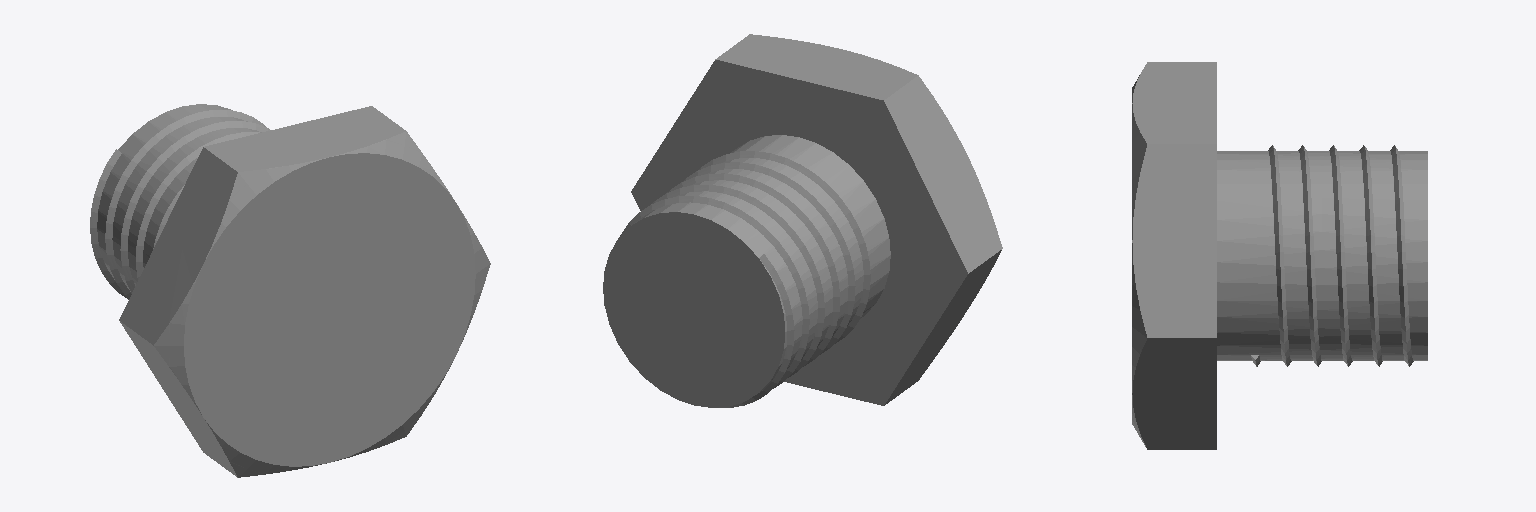
The model's file is pieza7.obj.
3 renders of one model, left to right at view 1: azimuth 30°, elevation 25°; view 2: azimuth 150°, elevation 25°; view 3: azimuth 270°, elevation 25°, orthographic.
Parts seen in each view (by area): view 1: Body1_Body1.006, Body2; view 2: Body1_Body1.006, Body2; view 3: Body1_Body1.006, Body2.
Part boxes in pixels (x1,y1,x2,y2): Body1_Body1.006: (97,104,490,477); Body2: (90,110,269,299); Body1_Body1.006: (603,34,1002,407); Body2: (620,151,870,407); Body1_Body1.006: (1132,62,1427,449); Body2: (1251,145,1413,366).
Size of the model in its own units: 0.0235 by 0.0203 by 0.0178.